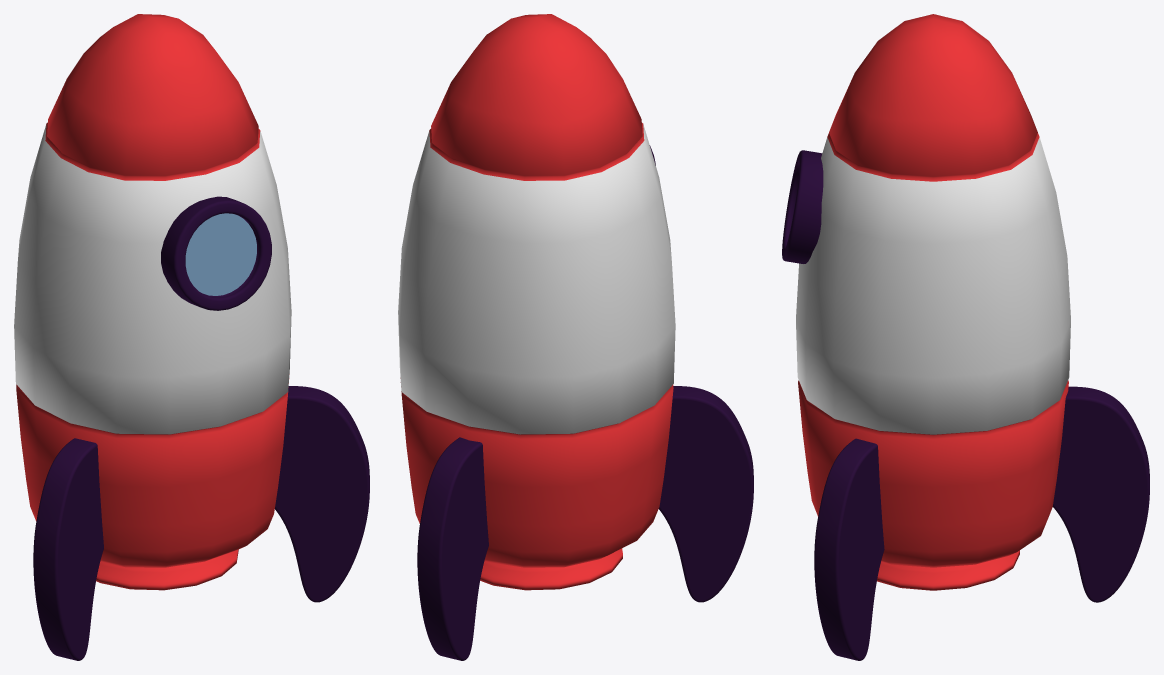
Rendered from rocket.gltf.
3 views of the same model, side by side, from view 1: azimuth 30°, elevation 25°; view 2: azimuth 150°, elevation 25°; view 3: azimuth 270°, elevation 25° (orthographic).
Parts seen in each view (by area): view 1: Cube, BezierCircle.002, BezierCircle; view 2: Cube, BezierCircle, BezierCircle.001; view 3: Cube, BezierCircle.001, BezierCircle.002.
Part boxes in pixels (box(x1,y1,x2,y2)): Cube: box(14, 14, 291, 590); BezierCircle.002: box(275, 386, 369, 602); BezierCircle: box(33, 438, 103, 660); Cube: box(398, 14, 675, 590); BezierCircle: box(658, 386, 753, 602); BezierCircle.001: box(417, 437, 488, 660); Cube: box(782, 14, 1070, 590); BezierCircle.001: box(1052, 386, 1149, 602); BezierCircle.002: box(814, 438, 884, 660).
Bounding box in the file's own units: 2.96 × 4.89 × 2.82.
